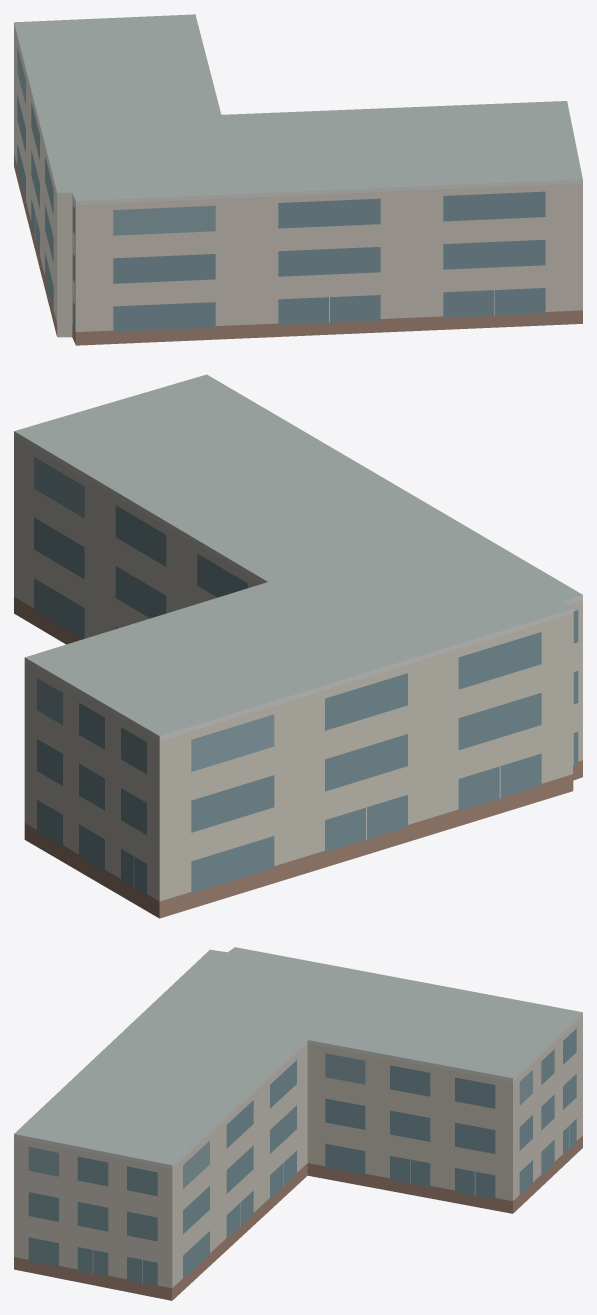
The model's file is survey-upis-32508330.glb.
3 views of the same model, one above another, from view 1: azimuth 30°, elevation 25°; view 2: azimuth 150°, elevation 25°; view 3: azimuth 270°, elevation 25° (orthographic). The views are drawn at different scales.
Visible parts, largest first — view 1: survey-upis-32508330.tmp; view 2: survey-upis-32508330.tmp; view 3: survey-upis-32508330.tmp.
Part boxes in pixels (x1,y1,x2,y2): survey-upis-32508330.tmp: (14, 14, 582, 345); survey-upis-32508330.tmp: (14, 374, 582, 918); survey-upis-32508330.tmp: (14, 947, 582, 1300).
Size of the model in its own units: 31.58 by 9.15 by 34.79.
